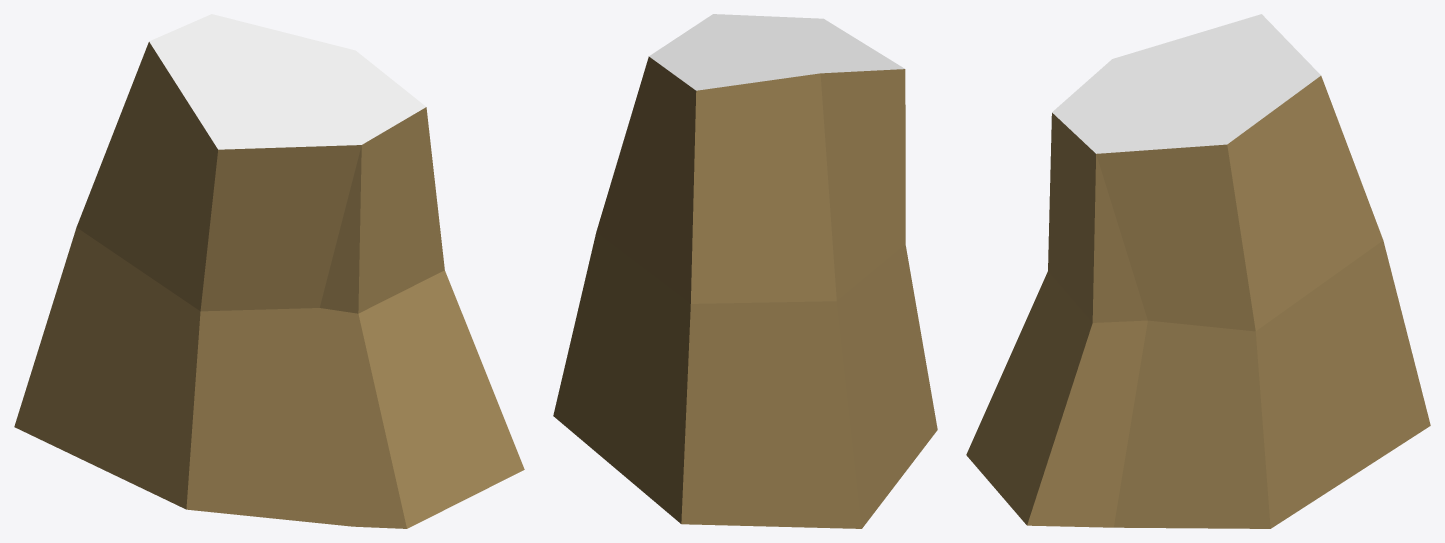
File: Oak_Stump_Snow_04_LOD.fbx
3 views of the same model, side by side, from view 1: azimuth 30°, elevation 25°; view 2: azimuth 150°, elevation 25°; view 3: azimuth 270°, elevation 25° (orthographic). The views are drawn at different scales.
Parts seen in each view (by area): view 1: Oak_Stump_Snow_04_LOD0; view 2: Oak_Stump_Snow_04_LOD0; view 3: Oak_Stump_Snow_04_LOD0.
Boxes of the visible parts, x1=… form: Oak_Stump_Snow_04_LOD0: x1=14, y1=14, x2=524, y2=528; Oak_Stump_Snow_04_LOD0: x1=553, y1=14, x2=937, y2=528; Oak_Stump_Snow_04_LOD0: x1=966, y1=14, x2=1430, y2=528.
Size of what is drawn, in the model's own units: 96.13 by 106 by 114.
